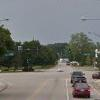cars: (72, 82, 91, 99)
